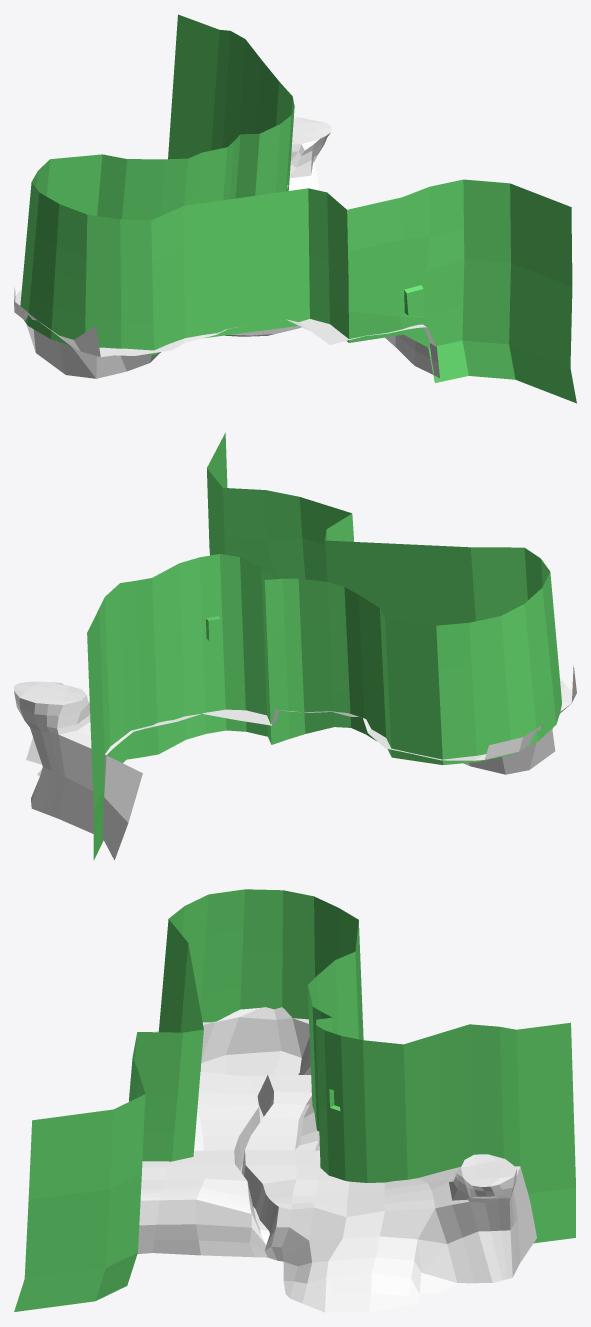
The model's file is workshop.glb.
3 views of the same model, one above another, from view 1: azimuth 30°, elevation 25°; view 2: azimuth 150°, elevation 25°; view 3: azimuth 270°, elevation 25° (orthographic). The views are drawn at different scales.
Parts seen in each view (by area): view 1: Cliffs-Low-col, Terrain-Walk-col; view 2: Cliffs-Low-col, Terrain-Walk-col; view 3: Cliffs-Low-col, Terrain-Walk-col.
Boxes of the visible parts, x1,y1,x2,y2 form: Cliffs-Low-col: (20, 14, 576, 403); Terrain-Walk-col: (14, 117, 439, 378); Cliffs-Low-col: (87, 432, 561, 860); Terrain-Walk-col: (14, 665, 576, 860); Cliffs-Low-col: (14, 889, 575, 1311); Terrain-Walk-col: (137, 1007, 576, 1312).
Bounding box in the file's own units: 251 × 123 × 270.
